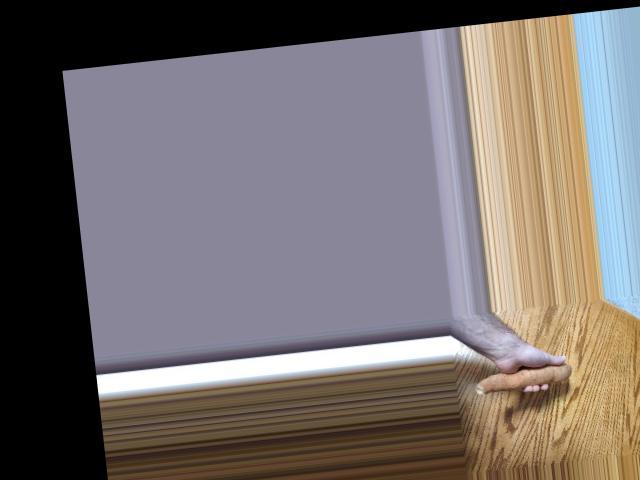sweet_potato: (471, 355, 569, 394)
